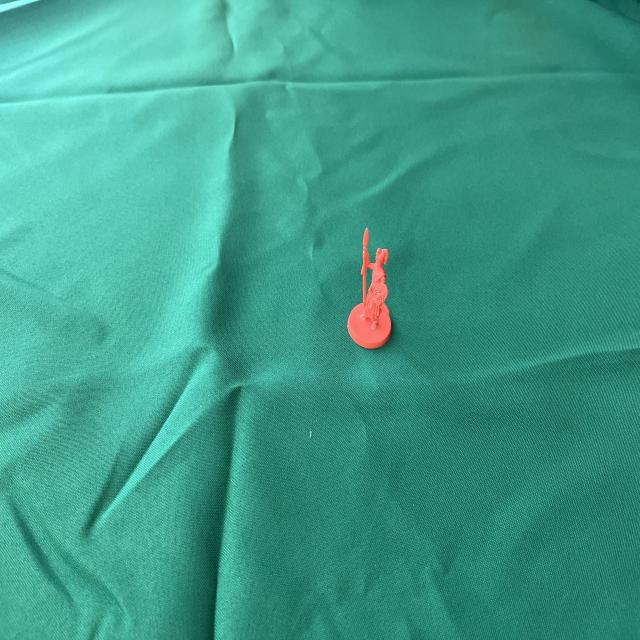amon_follower: (348, 228, 391, 348)
